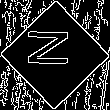N_E: (29, 35, 81, 75)
